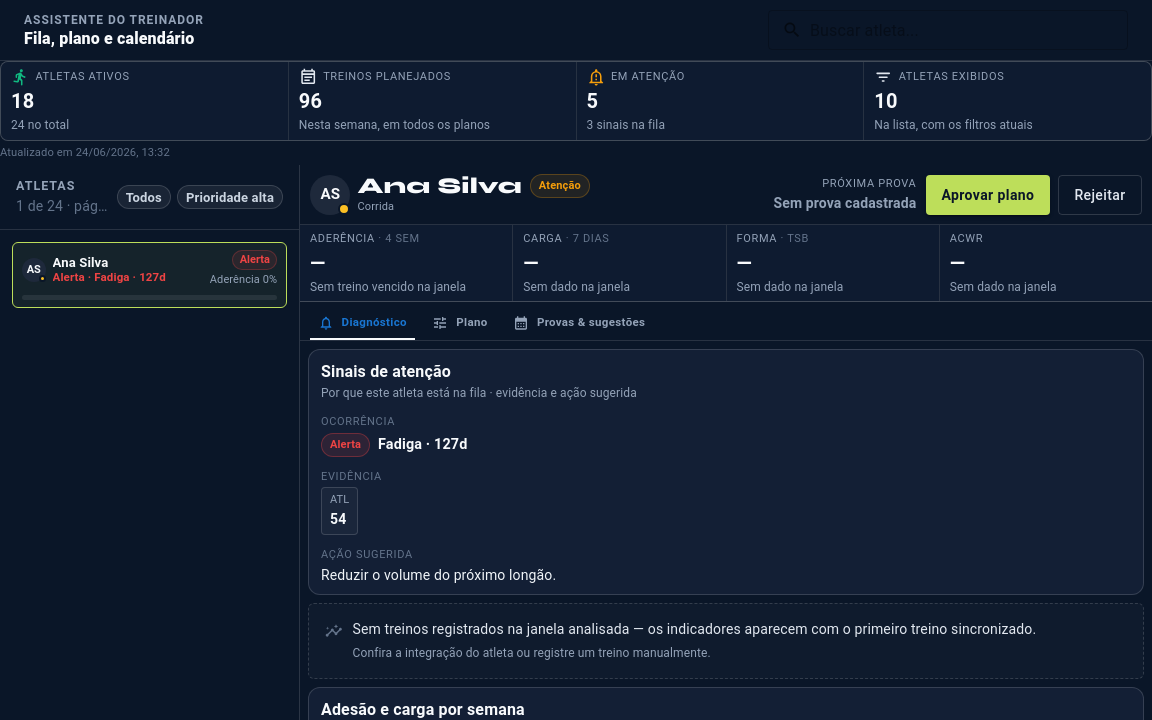
Test case: CoachInboxPage › decisão sobre sugestão pela aba Provas & sugestões › aprovar recarrega o perfil e a lista mostra o novo status sem recarregar a página
Click the tab "Provas & sugestões".
click(579, 322)  # box [505,306,653,340]
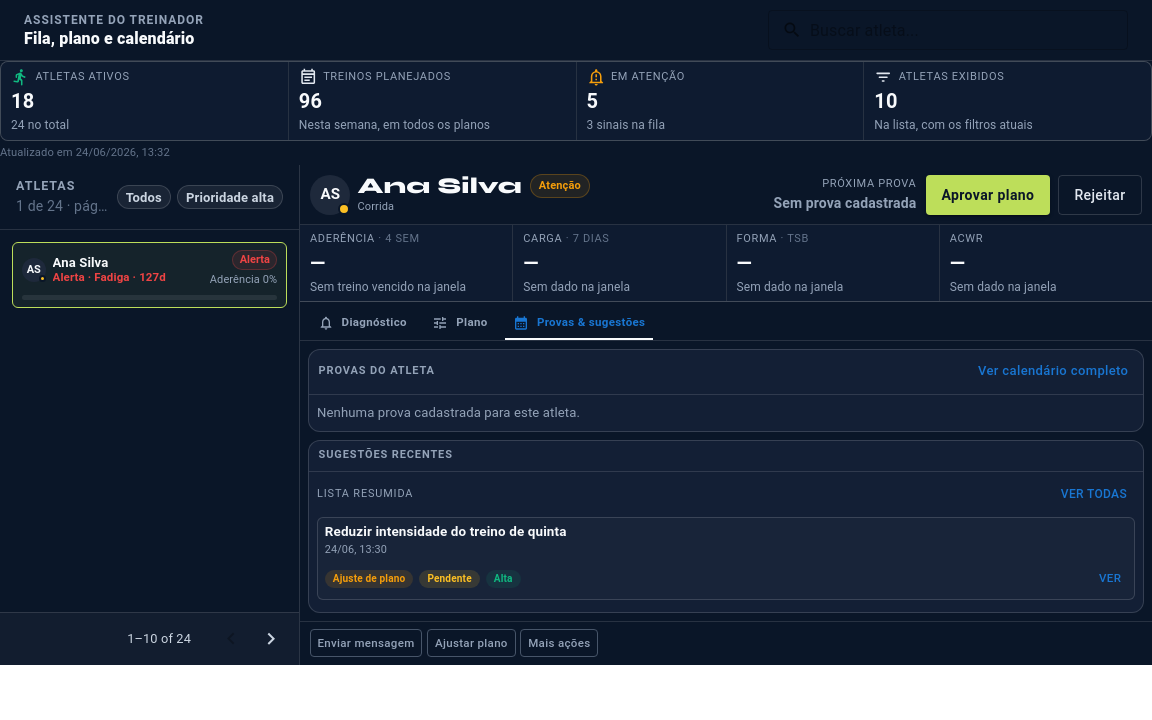
Click the button "Ver".
click(1110, 579)  # box [1093,564,1127,593]
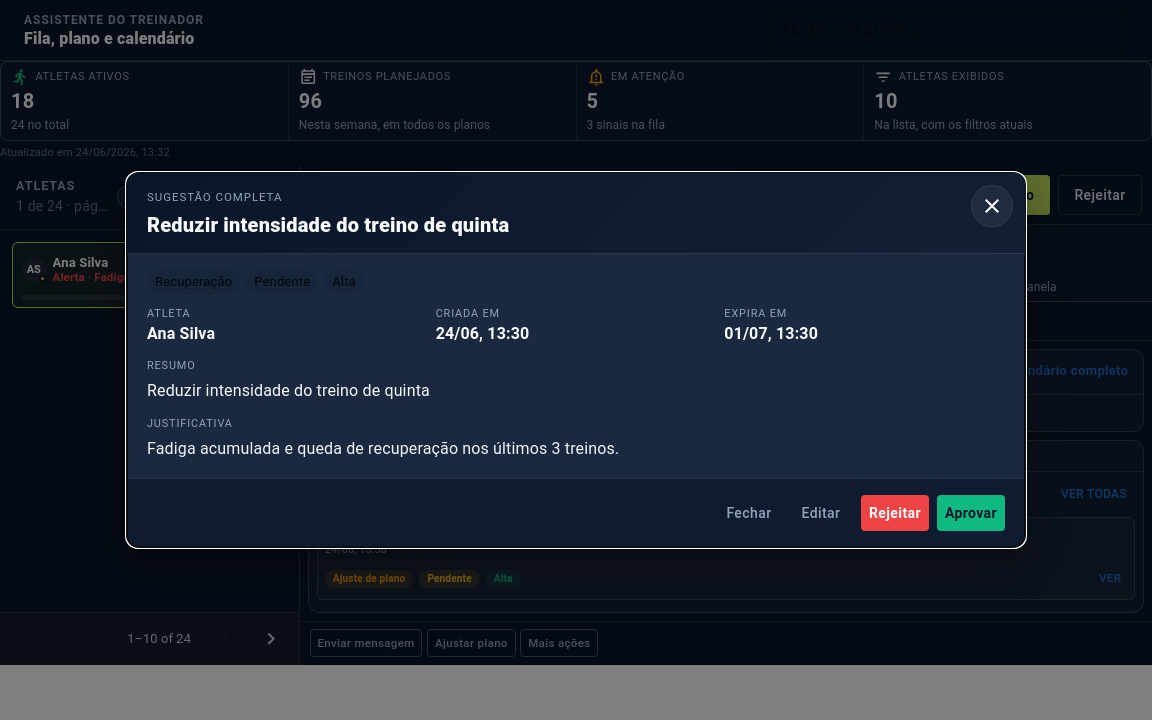
Click the button "Aprovar".
click(971, 513)  # box [937,495,1005,531]
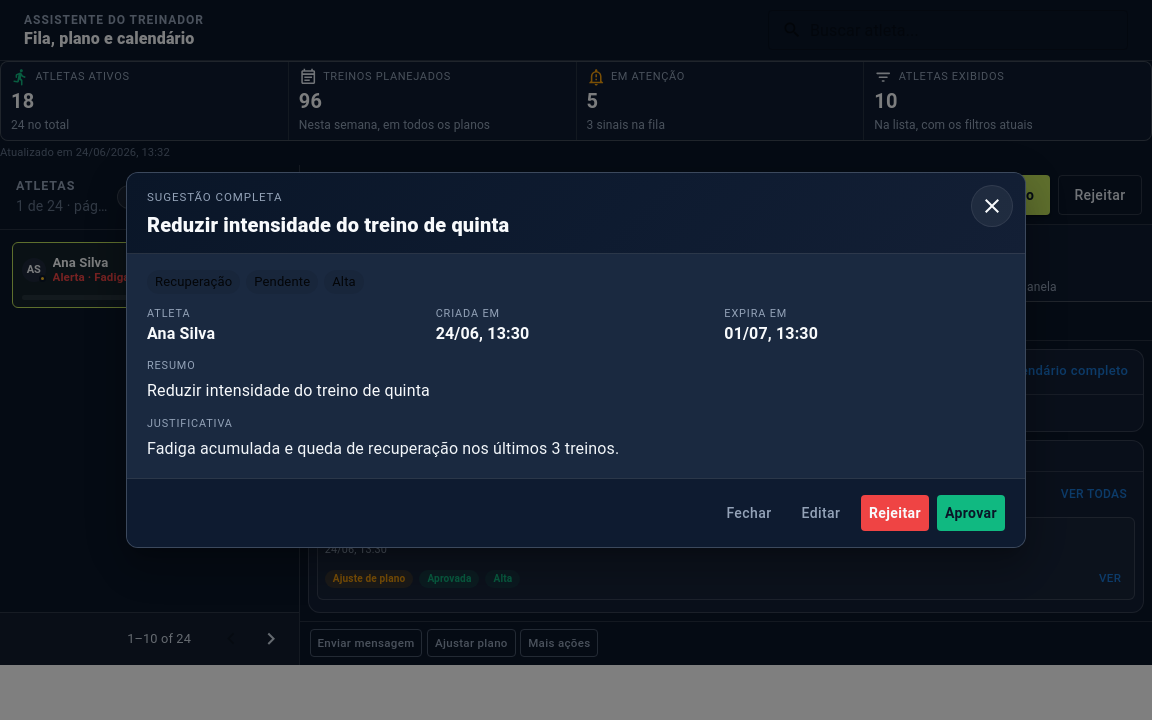
Click the button named "fechar".
click(992, 206)  # box [971,184,1013,226]
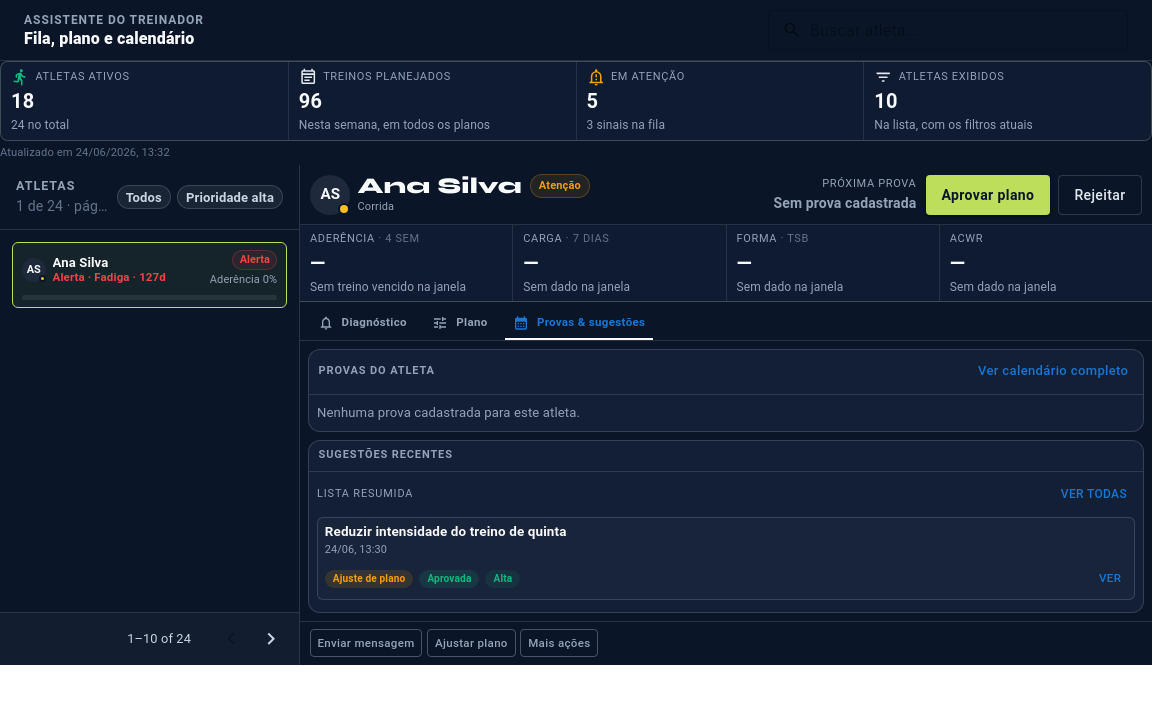
Check: the text "Aprovada" is shown, box [427,573,472,584]
Check: the dialog is gone
Check: the text "Pendente" is gone
